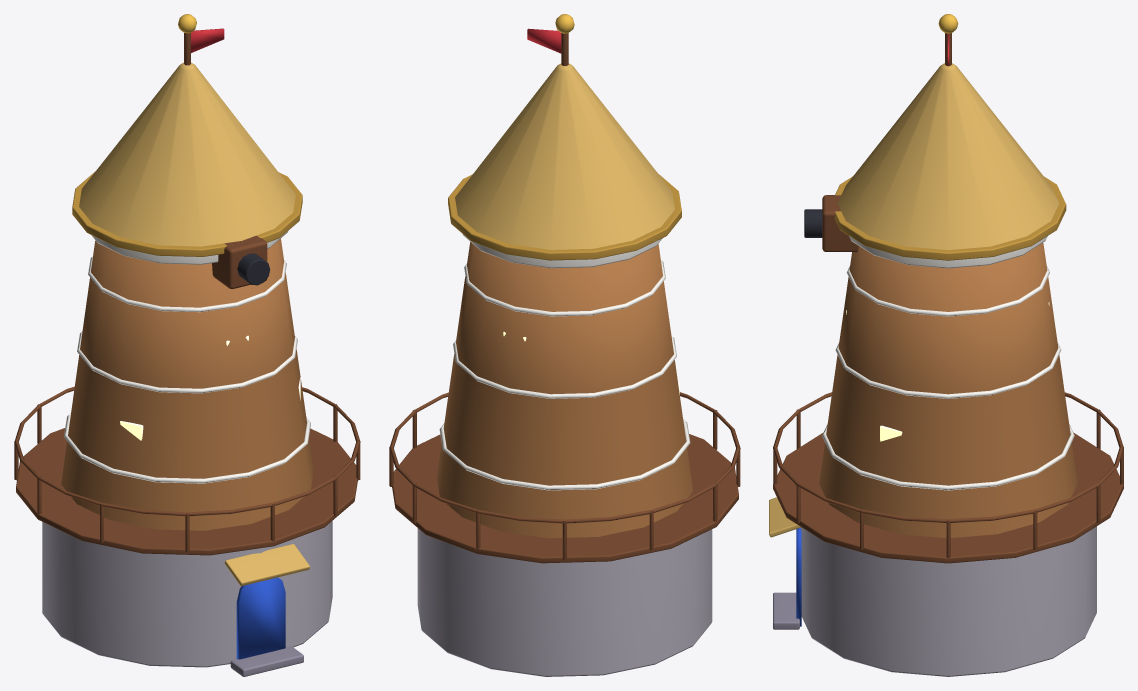
File: faire_windmill.glb
3 views of the same model, side by side, from view 1: azimuth 30°, elevation 25°; view 2: azimuth 150°, elevation 25°; view 3: azimuth 270°, elevation 25° (orthographic).
Visible parts, largest first — view 1: Windmill; view 2: Windmill; view 3: Windmill.
Boxes of the visible parts, x1,y1,x2,y2 form: Windmill: (14, 14, 360, 676); Windmill: (389, 14, 740, 676); Windmill: (769, 14, 1123, 676).
Bounding box in the file's own units: 7.8 × 14.72 × 7.89.
